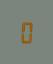zero: (19, 19, 31, 44)
